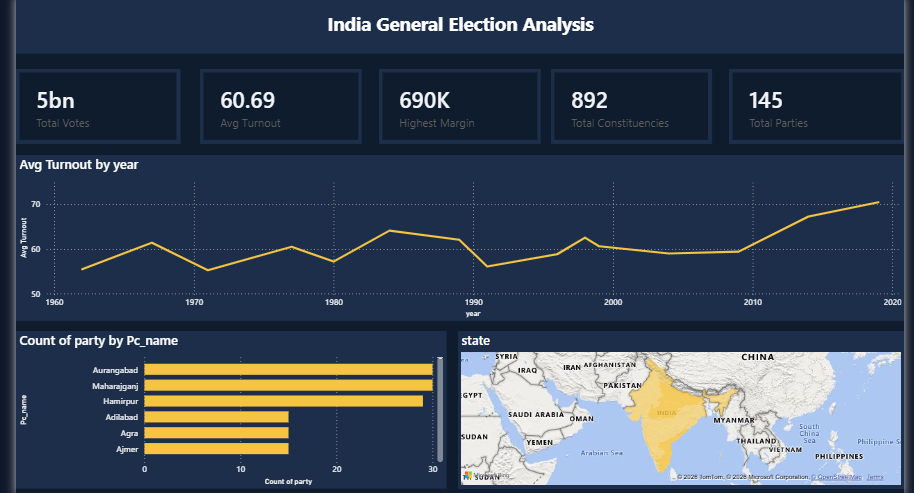

This screenshot's page, from the dashboard's own definition file:
{"tool":"powerbi","page":{"name":"Page 4","canvas":[1280,720],"ordinal":0},"visuals":[{"type":"cardVisual","fields":{"Data":["final_processed_election_data.Total Votes"]},"box":[0,105.8,236.9,107.5],"z":0},{"type":"cardVisual","fields":{"Data":["final_processed_election_data.Avg Turnout"]},"box":[265.4,105.8,233.5,107.5],"z":1000},{"type":"cardVisual","fields":{"Data":["final_processed_election_data.Total Parties"]},"box":[1026.4,105.8,253.6,107.5],"z":2000},{"type":"cardVisual","fields":{"Data":["final_processed_election_data.Highest Margin"]},"box":[522.4,105.8,233.5,107.5],"z":3000},{"type":"cardVisual","fields":{"Data":["final_processed_election_data.Total Constituencies"]},"box":[771,105.8,231.8,107.5],"z":4000},{"type":"lineChart","fields":{"Category":["final_processed_election_data.year"],"Y":["final_processed_election_data.Avg Turnout"]},"box":[0,228.5,1280,238.5],"z":5000},{"type":"barChart","fields":{"Y":["CountNonNull(final_processed_election_data.party)"],"Category":["final_processed_election_data.Pc_name"]},"box":[0,482.1,619.8,226.8],"z":6000},{"type":"filledMap","fields":{"Category":["final_processed_election_data.state"]},"box":[636.6,482.1,643.4,226.8],"z":7000},{"type":"textbox","box":[0,0,1280,82.5],"z":8000}]}

Visuals, with their boxes on the page's 1280x720 design canvas (x1, y1, x2, y2). These are canvas units, not pixel positions in the 914x493 screenshot, which may show the page scaled, cropped or inside an application window:
cardVisual - final_processed_election_data.Total Votes: box=[0, 106, 237, 213]
cardVisual - final_processed_election_data.Avg Turnout: box=[265, 106, 499, 213]
cardVisual - final_processed_election_data.Total Parties: box=[1026, 106, 1280, 213]
cardVisual - final_processed_election_data.Highest Margin: box=[522, 106, 756, 213]
cardVisual - final_processed_election_data.Total Constituencies: box=[771, 106, 1003, 213]
lineChart - final_processed_election_data.year x final_processed_election_data.Avg Turnout: box=[0, 228, 1280, 467]
barChart - CountNonNull(final_processed_election_data.party) x final_processed_election_data.Pc_name: box=[0, 482, 620, 709]
filledMap - final_processed_election_data.state: box=[637, 482, 1280, 709]
textbox: box=[0, 0, 1280, 82]
